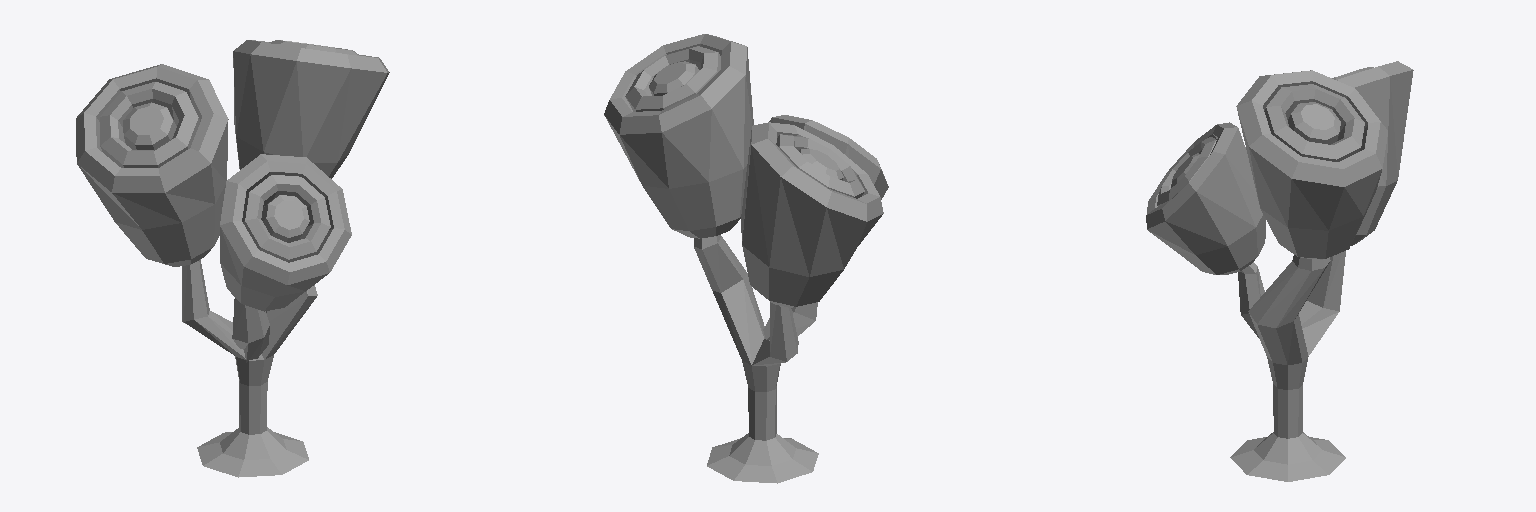
The model's file is tree4.obj.
3 views of the same model, side by side, from view 1: azimuth 30°, elevation 25°; view 2: azimuth 150°, elevation 25°; view 3: azimuth 270°, elevation 25° (orthographic).
Parts seen in each view (by area): view 1: Cylinder.001_Cylinder.002; view 2: Cylinder.001_Cylinder.002; view 3: Cylinder.001_Cylinder.002.
Part boxes in pixels (x1,y1,x2,y2): Cylinder.001_Cylinder.002: (76, 40, 389, 477); Cylinder.001_Cylinder.002: (604, 34, 888, 483); Cylinder.001_Cylinder.002: (1146, 61, 1413, 481).
Bounding box in the file's own units: 9.86 × 13.6 × 8.19.